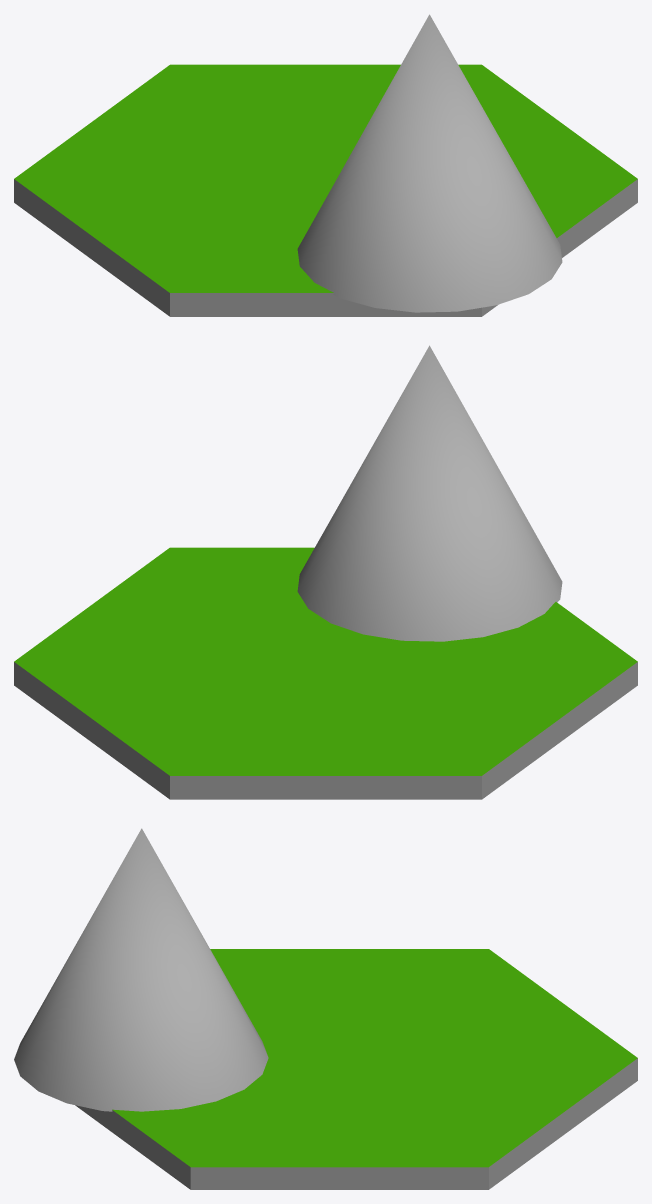
3 renders of one model, top to bottom at view 1: azimuth 30°, elevation 25°; view 2: azimuth 150°, elevation 25°; view 3: azimuth 270°, elevation 25°, orthographic. The views are drawn at different scales.
Visible parts, largest first — view 1: Base1, pCone2; view 2: Base1, pCone2; view 3: Base1, pCone2.
Boxes of the visible parts, x1,y1,x2,y2 form: Base1: (14,64,637,316); pCone2: (297,14,562,312); Base1: (14,547,637,799); pCone2: (297,345,562,641); Base1: (75,949,637,1189); pCone2: (14,828,268,1111).
Size of the model in its own units: 86.6 by 105 by 46.74.
